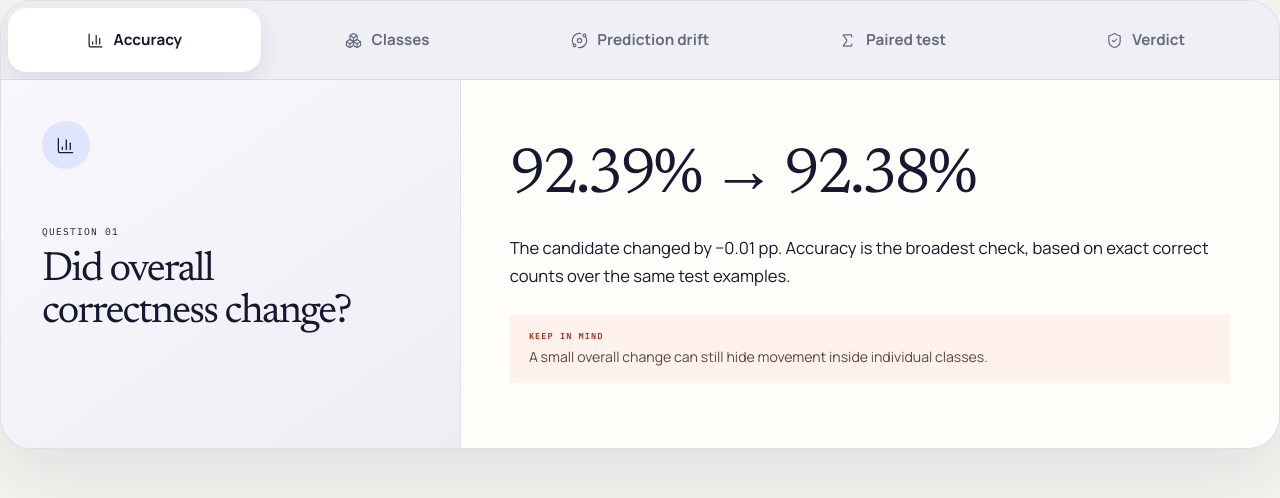
How it works evidence explorer › switches evidence without losing report context
Expected: the panel shows "92.39% → 92.38%", [510,145,974,209]
Click the tab "Prediction drift" at (640, 40), box [514,8,766,72]
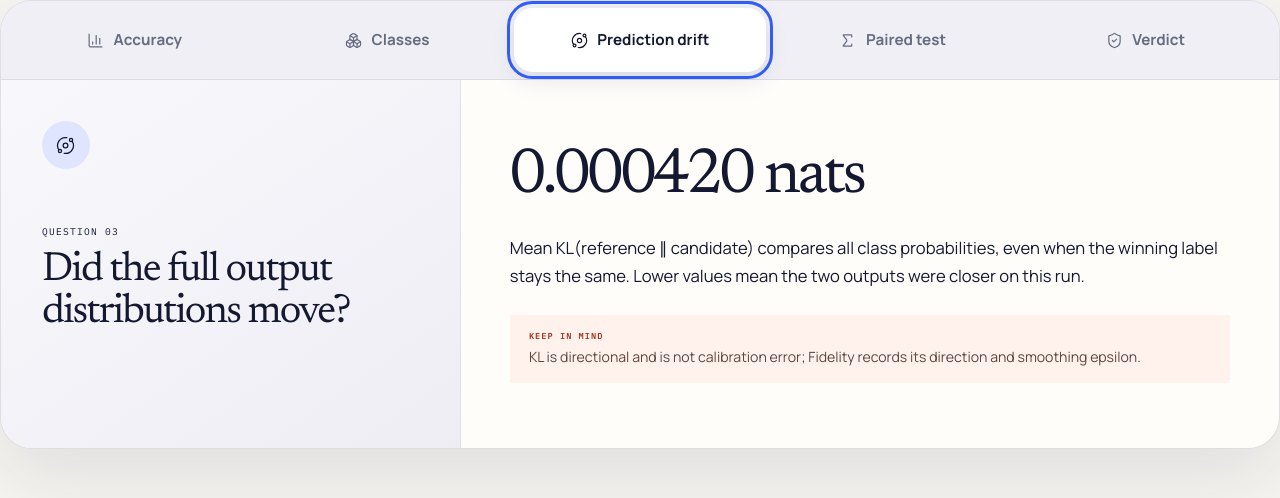
Expected: the panel shows "0.000420 nats", [510,145,864,209]
Expected: the panel shows "not calibration error", [529,347,1141,366]
